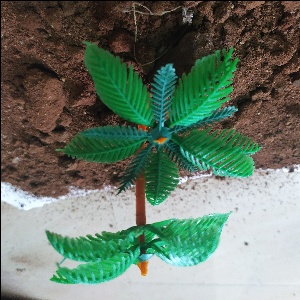plant: (53, 45, 257, 196), (37, 216, 234, 280)
